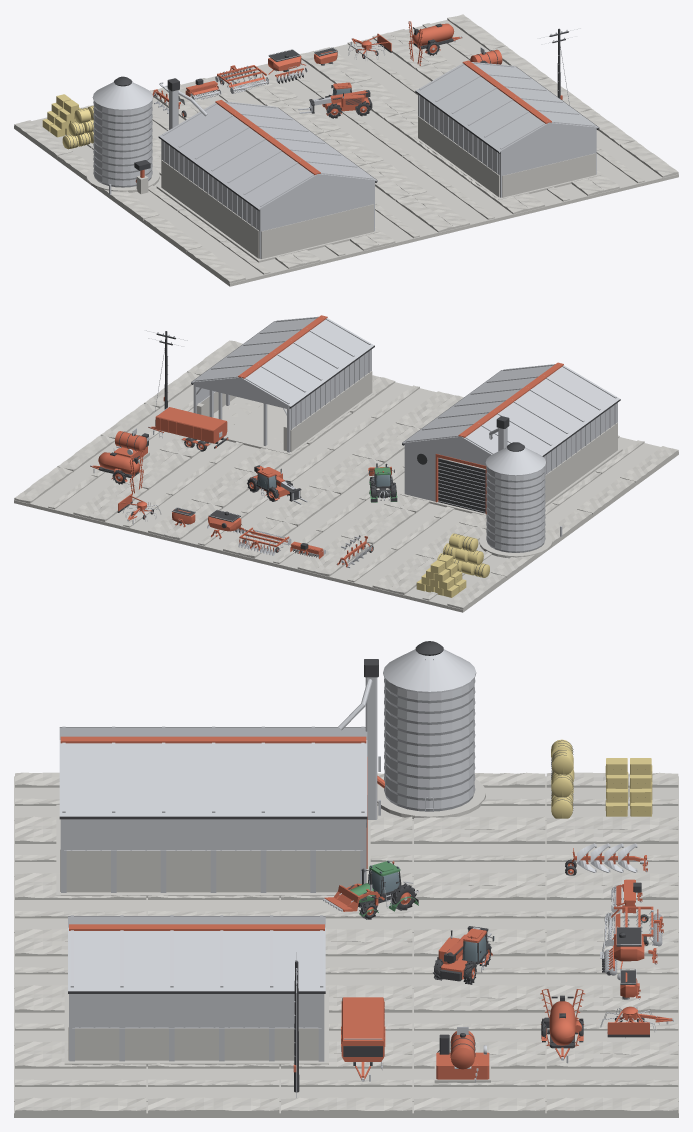
Rendered from arable-fields-and-farm-machinery-machinery-yard-bf73b0dd__16896.glb.
3 views of the same model, one above another, from view 1: azimuth 30°, elevation 25°; view 2: azimuth 150°, elevation 25°; view 3: azimuth 270°, elevation 25° (orthographic). The views are drawn at different scales.
Parts seen in each view (by area): view 1: 030-grain-store-shed/1, 031-machinery-shed/1, 030-grain-store-shed/0, 032-grain-silo/1, 031-machinery-shed/0, 017-farm-track-module/2, 019-farm-track-module/2, 019-farm-track-module/1, 025-farm-track-module/2, 018-farm-track-module/1, 017-farm-track-module/1, 020-farm-track-module/2 (+45 smaller); view 2: 030-grain-store-shed/1, 031-machinery-shed/1, 032-grain-silo/1, 031-machinery-shed/0, 030-grain-store-shed/0, 030-grain-store-shed/2, 025-farm-track-module/2, 011-farm-track-module/2, 021-farm-track-module/2, 005-farm-track-module/2, 006-farm-track-module/2, 045-grain-trailer/tipping-body/accent (+48 smaller); view 3: 030-grain-store-shed/1, 031-machinery-shed/1, 032-grain-silo/1, 030-grain-store-shed/0, 031-machinery-shed/0, 025-farm-track-module/2, 006-farm-track-module/2, 011-farm-track-module/2, 029-farm-track-module/2, 021-farm-track-module/2, 027-farm-track-module/2, 026-farm-track-module/2 (+61 smaller).
Part boxes in pixels (x1=…): 030-grain-store-shed/1: x1=159, y1=89, x2=377, y2=258; 031-machinery-shed/1: x1=416, y1=62, x2=598, y2=197; 030-grain-store-shed/0: x1=156, y1=160, x2=379, y2=262; 032-grain-silo/1: x1=92, y1=82, x2=153, y2=194; 031-machinery-shed/0: x1=414, y1=116, x2=600, y2=199; 017-farm-track-module/2: x1=326, y1=114, x2=428, y2=163; 019-farm-track-module/2: x1=412, y1=180, x2=528, y2=228; 019-farm-track-module/1: x1=429, y1=183, x2=513, y2=225; 025-farm-track-module/2: x1=389, y1=14, x2=505, y2=64; 018-farm-track-module/1: x1=386, y1=151, x2=469, y2=192; 017-farm-track-module/1: x1=343, y1=119, x2=426, y2=160; 020-farm-track-module/2: x1=314, y1=32, x2=430, y2=82; 030-grain-store-shed/1: x1=402, y1=364, x2=619, y2=512; 031-machinery-shed/1: x1=191, y1=316, x2=374, y2=452; 032-grain-silo/1: x1=485, y1=447, x2=562, y2=552; 031-machinery-shed/0: x1=196, y1=371, x2=376, y2=454; 030-grain-store-shed/0: x1=400, y1=422, x2=622, y2=515; 030-grain-store-shed/2: x1=402, y1=370, x2=620, y2=513; 025-farm-track-module/2: x1=14, y1=467, x2=130, y2=518; 011-farm-track-module/2: x1=282, y1=490, x2=398, y2=539; 021-farm-track-module/2: x1=134, y1=453, x2=249, y2=503; 005-farm-track-module/2: x1=313, y1=540, x2=430, y2=590; 006-farm-track-module/2: x1=356, y1=508, x2=473, y2=558; 045-grain-trailer/tipping-body/accent: x1=155, y1=407, x2=227, y2=443; 030-grain-store-shed/1: x1=59, y1=677, x2=377, y2=892; 031-machinery-shed/1: x1=68, y1=915, x2=325, y2=1061; 032-grain-silo/1: x1=378, y1=649, x2=476, y2=815; 030-grain-store-shed/0: x1=56, y1=804, x2=370, y2=897; 031-machinery-shed/0: x1=64, y1=987, x2=328, y2=1066; 025-farm-track-module/2: x1=546, y1=1053, x2=678, y2=1113; 006-farm-track-module/2: x1=414, y1=828, x2=545, y2=886; 011-farm-track-module/2: x1=414, y1=885, x2=545, y2=942; 029-farm-track-module/2: x1=15, y1=1053, x2=146, y2=1113; 021-farm-track-module/2: x1=414, y1=997, x2=545, y2=1054; 027-farm-track-module/2: x1=281, y1=1054, x2=412, y2=1113; 026-farm-track-module/2: x1=414, y1=1053, x2=545, y2=1113.
Size of the model in its own units: 48.4 by 10.86 by 40.
